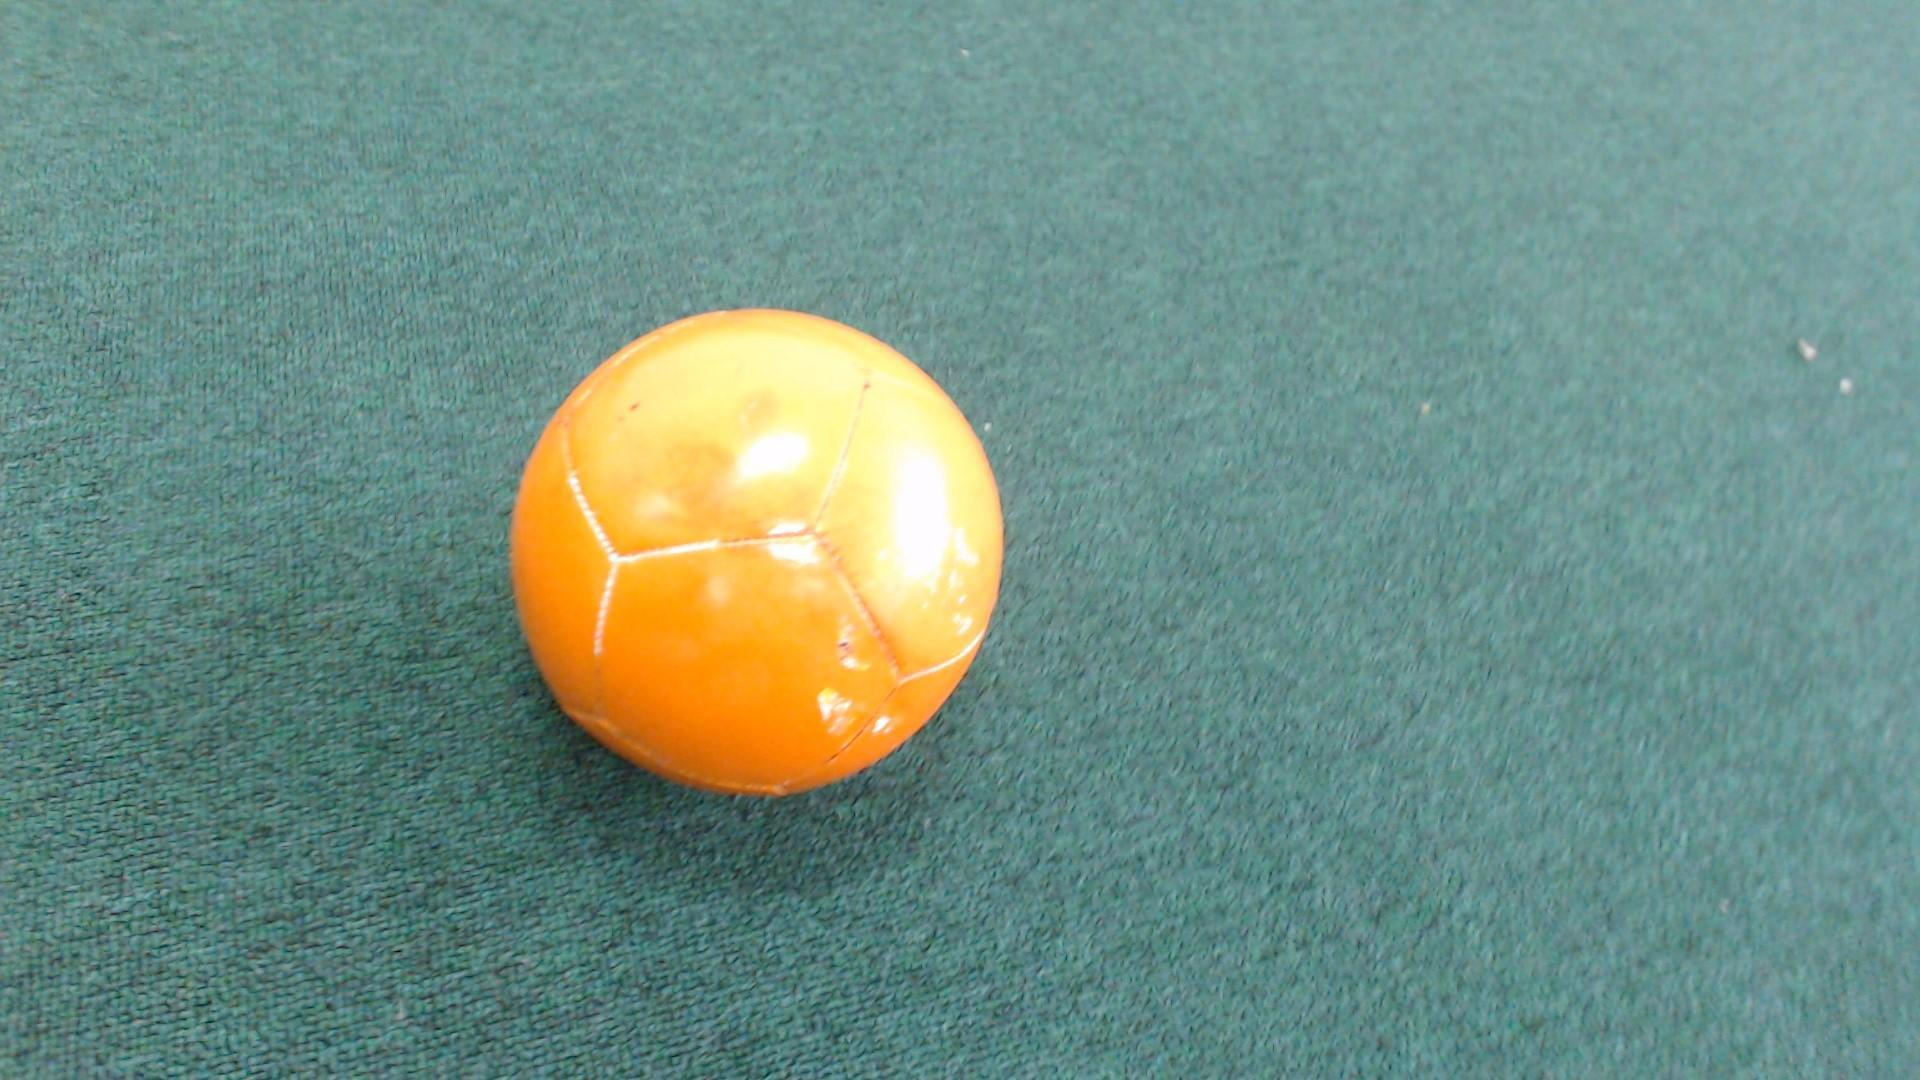bola: (501, 302, 1023, 812)
